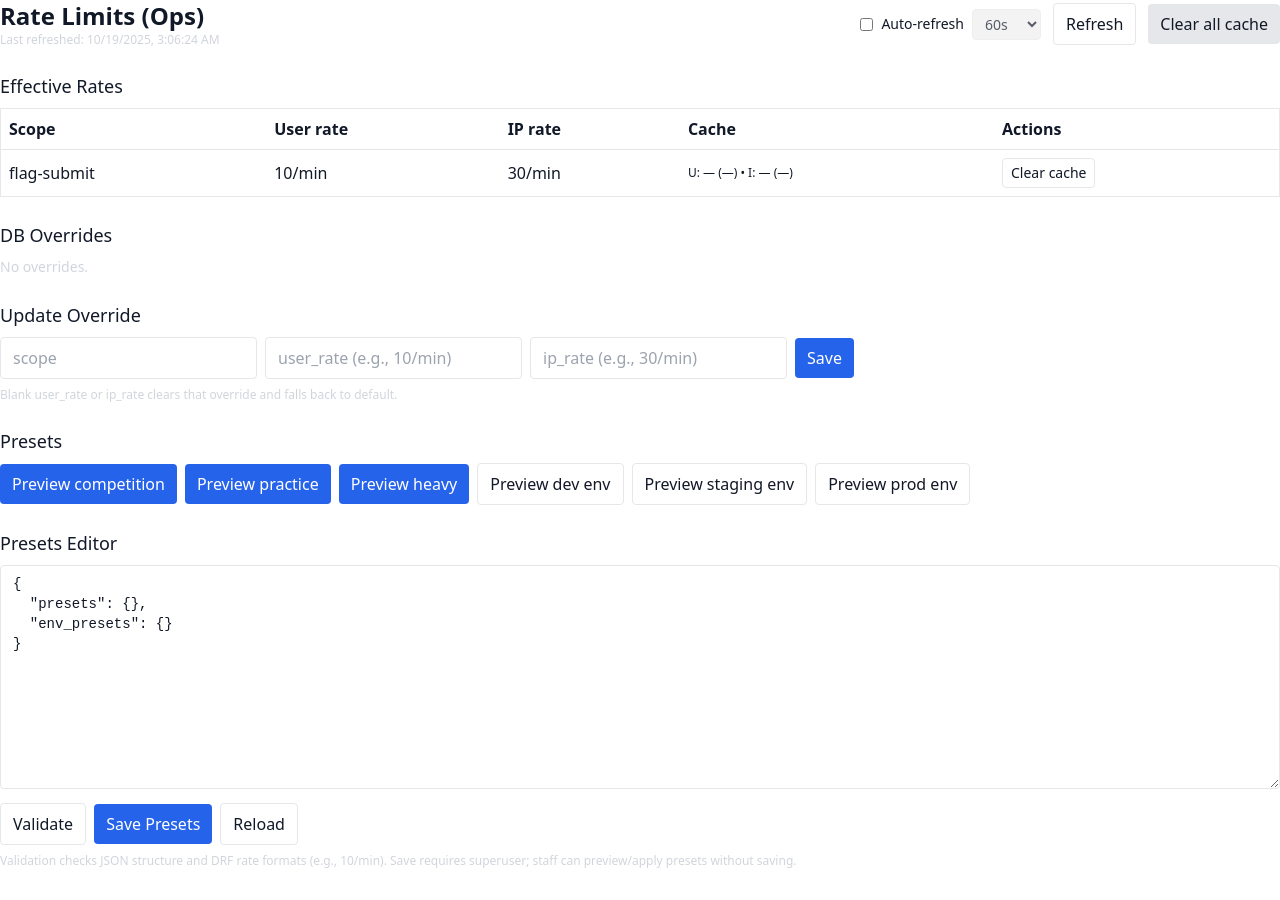
Test case: Ops Rate Limits clear all cache action › clears all cache via header button and shows success toast
This screenshot has width=1280, height=900.
Expected: the heading "Rate Limits (Ops)" is shown, [0,0,220,32]
What coordinates should you click on to do the following:
click the button "Clear all cache"
I would click on:
 (1214, 24)
Its box is [1148,4,1279,44].
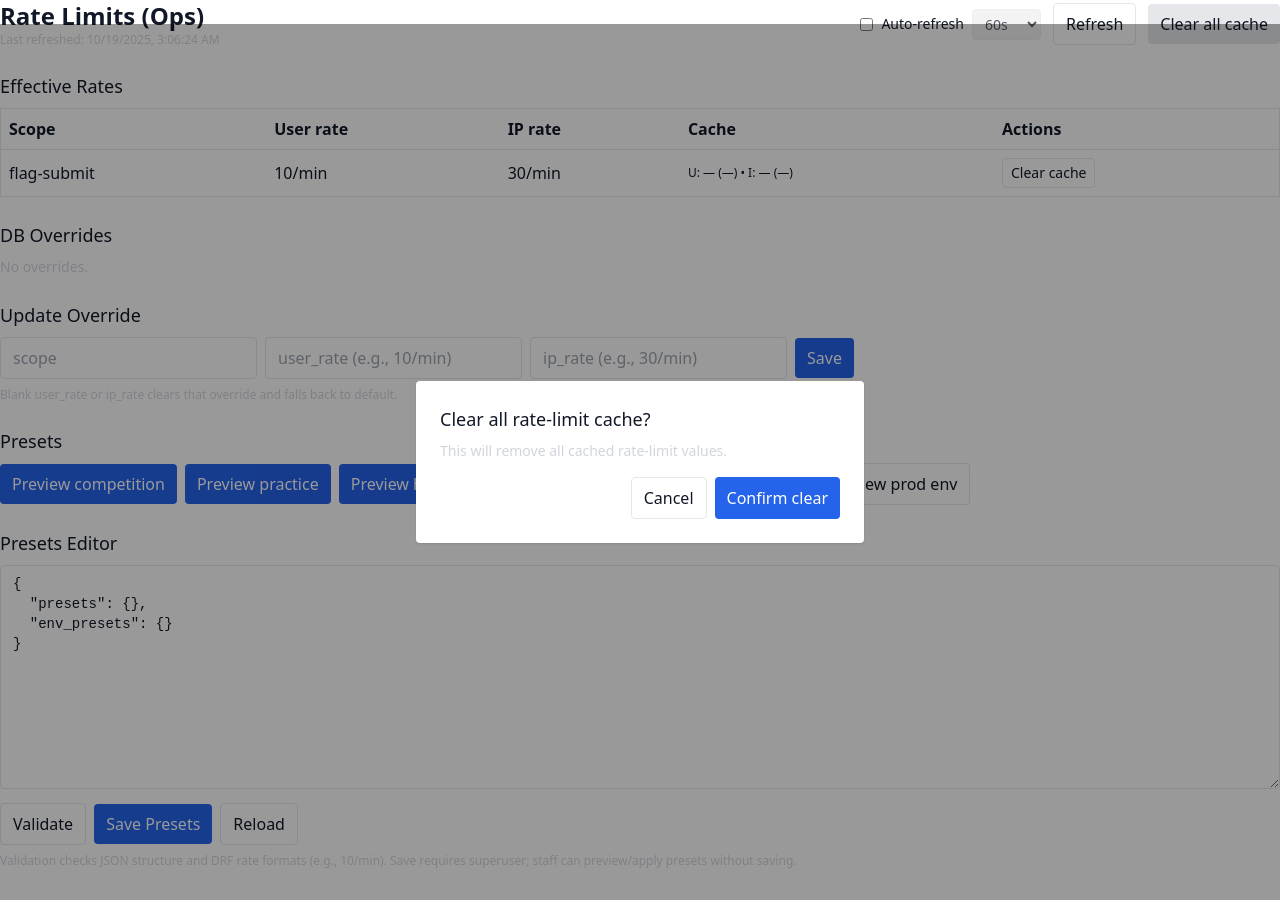
Note: Confirm modal
What coordinates should you click on to do the following:
click the button "Confirm clear"
I would click on:
 (777, 498)
Its box is [714,477,840,519].
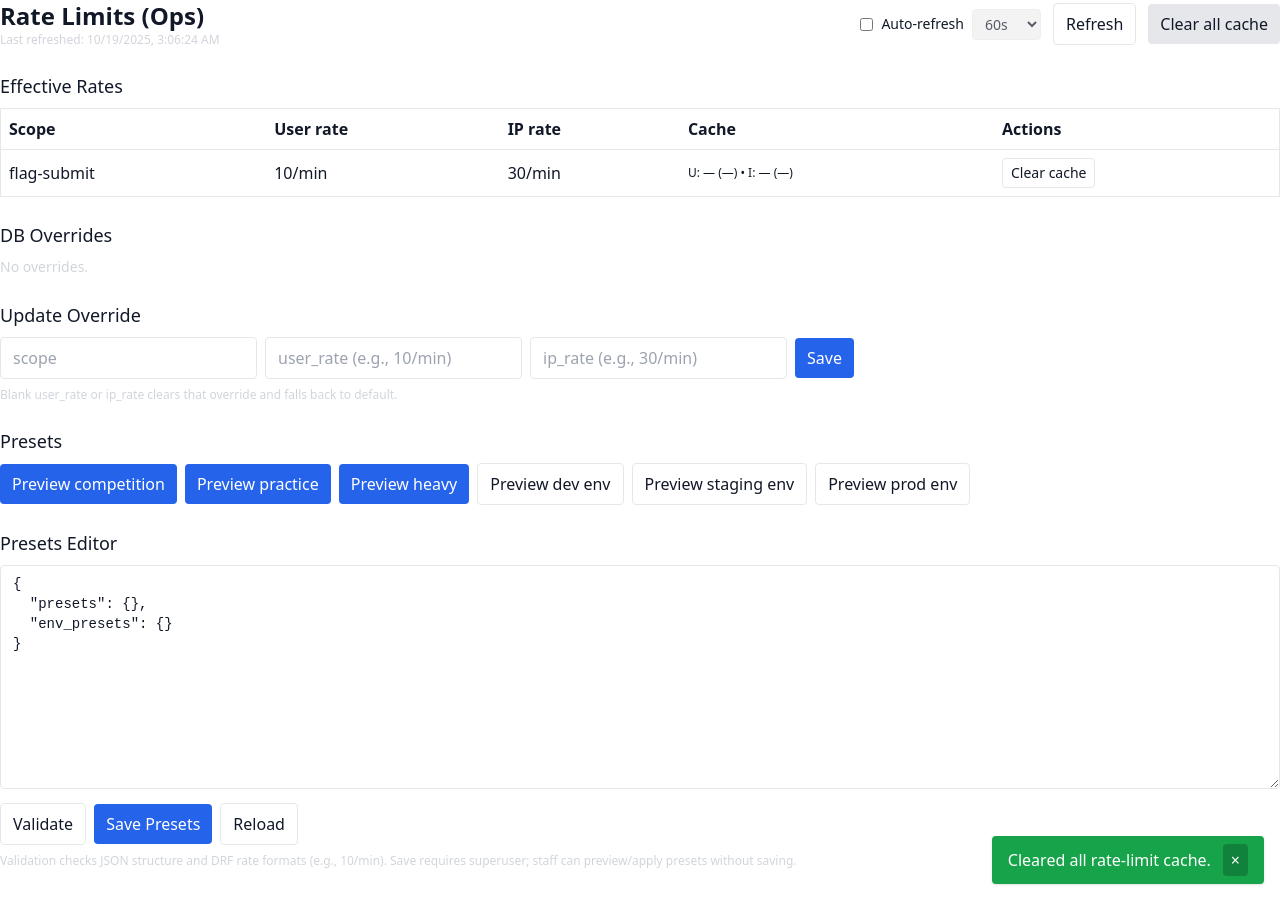
Expected: the text "Cleared all rate-limit cache." is shown, [1008,848,1211,872]
